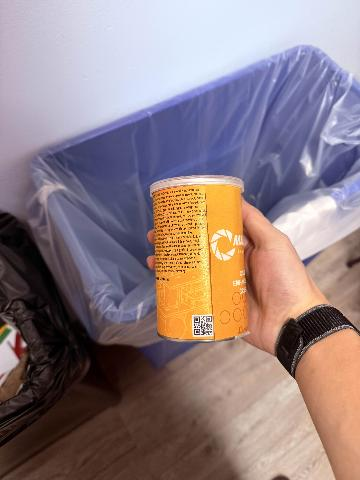Golden Can: (151, 176, 248, 341)
